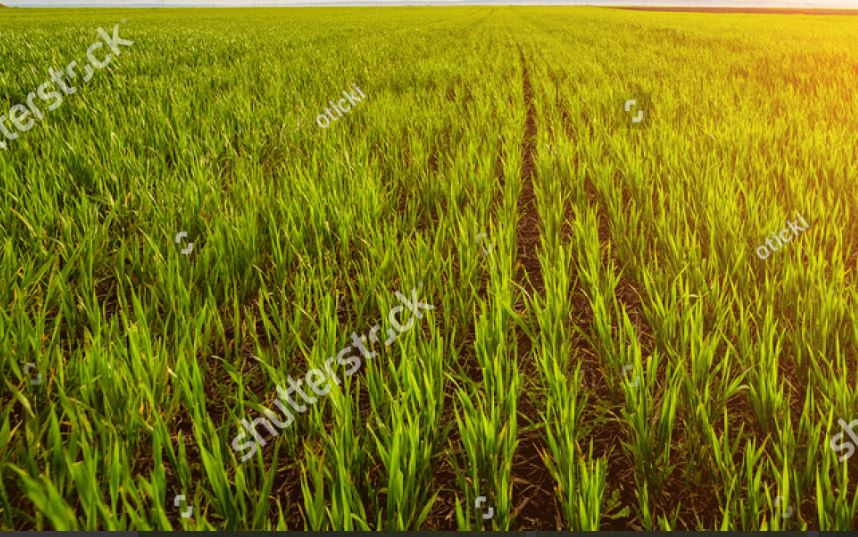Wheat: (157, 144, 616, 282)
